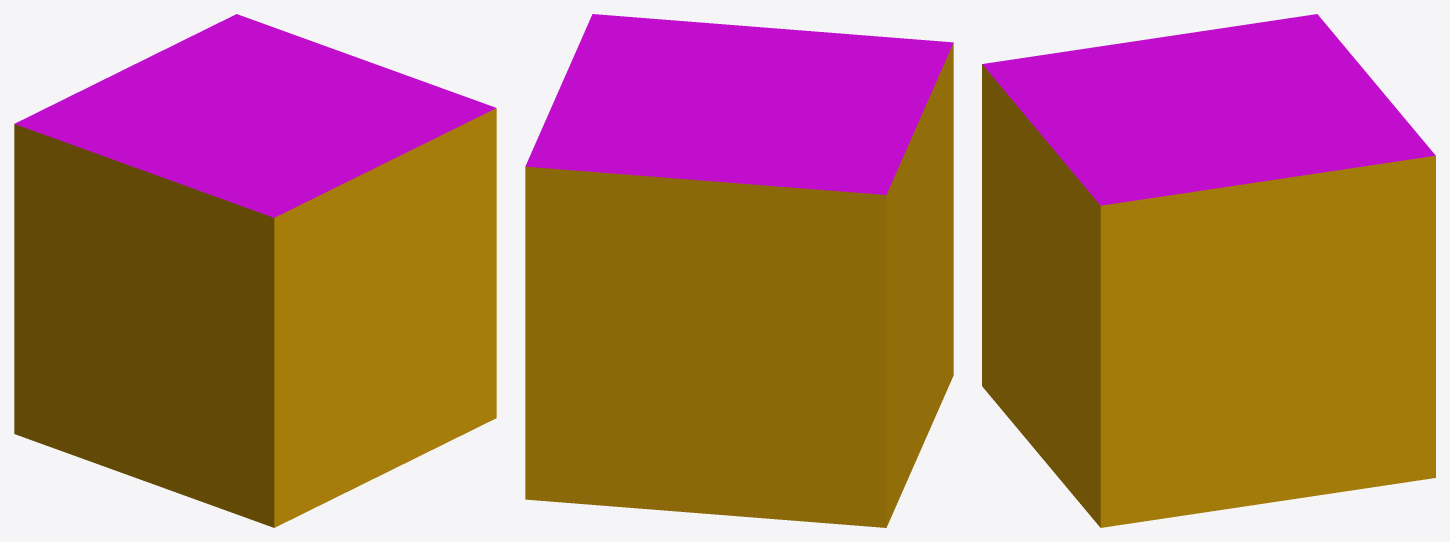
Rendered from ЭТОХЛЕБ.fbx.
The picture shows the model from 3 angles, left to right: view 1: azimuth 30°, elevation 25°; view 2: azimuth 150°, elevation 25°; view 3: azimuth 270°, elevation 25°; orthographic projection. The views are drawn at different scales.
Parts seen in each view (by area): view 1: Cube.179; view 2: Cube.179; view 3: Cube.179.
Part boxes in pixels (bbox=[...]): Cube.179: bbox=[14, 14, 496, 527]; Cube.179: bbox=[525, 14, 953, 527]; Cube.179: bbox=[982, 14, 1435, 527].
Size of the model in its own units: 69.23 by 54.26 by 69.23.
